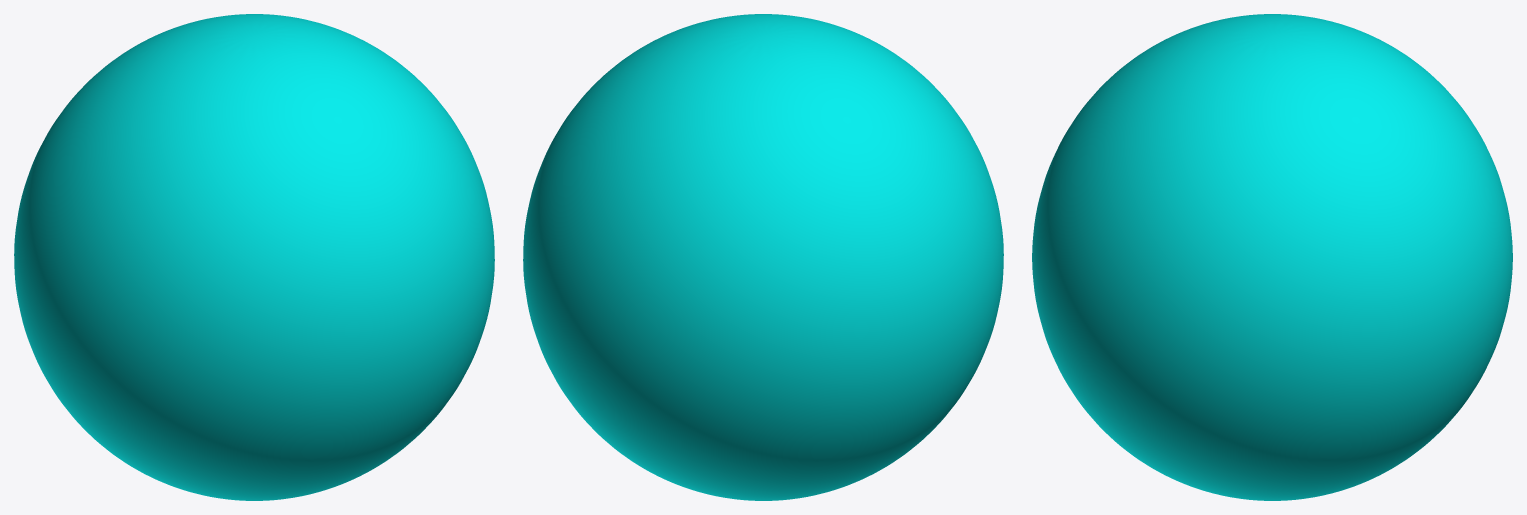
Rendered from New_Boulder.fbx.
The picture shows the model from 3 angles, left to right: view 1: azimuth 30°, elevation 25°; view 2: azimuth 150°, elevation 25°; view 3: azimuth 270°, elevation 25°; orthographic projection.
Parts seen in each view (by area): view 1: polySurface1; view 2: polySurface1; view 3: polySurface1.
Part boxes in pixels (bbox=[...]): polySurface1: bbox=[14, 14, 494, 500]; polySurface1: bbox=[523, 14, 1003, 500]; polySurface1: bbox=[1032, 14, 1512, 500].
Size of the model in its own units: 92.94 by 94.59 by 92.94.
